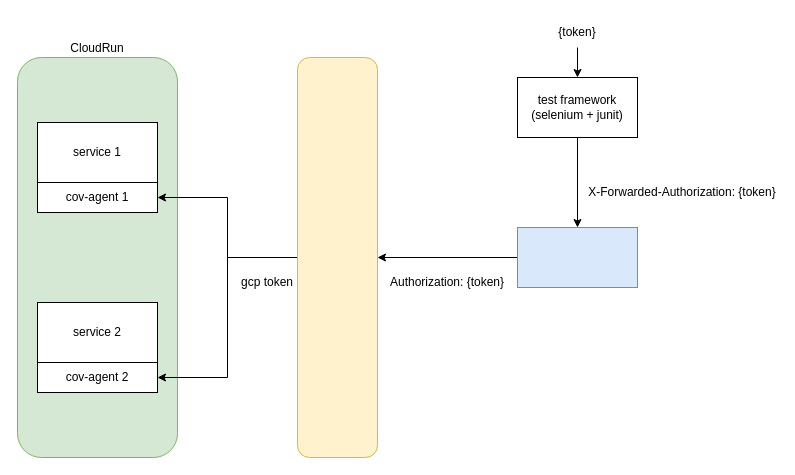
Image size: 795x475. Some labels were removed from this diagram. Here are the shapes that lost their labels. From the top down, the centre of each, then its label:
At point (337, 257): "Apigee".
At point (577, 257): "CTP".
